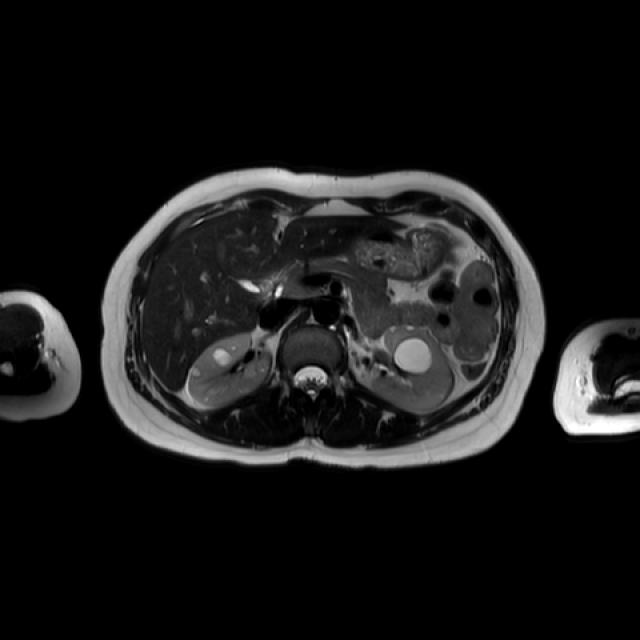sag: (184, 333, 274, 408)
sol: (370, 325, 456, 414)
